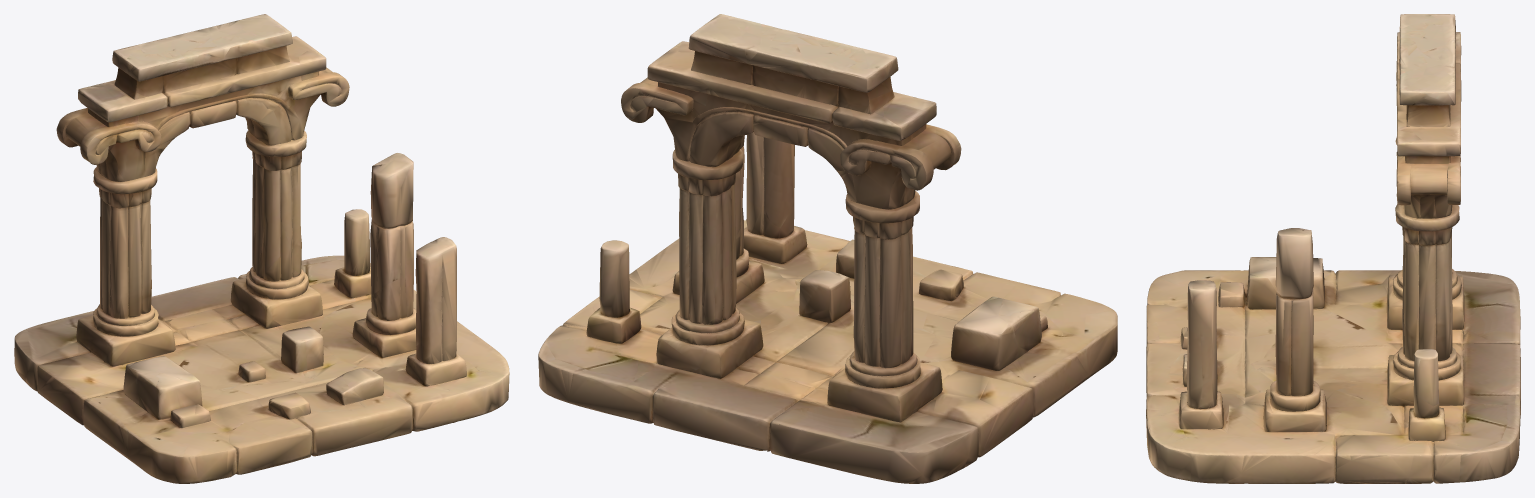
The model's file is roman_forum_pbr.glb.
3 renders of one model, left to right at view 1: azimuth 30°, elevation 25°; view 2: azimuth 150°, elevation 25°; view 3: azimuth 270°, elevation 25°, orthographic. The views are drawn at different scales.
Visible parts, largest first — view 1: model; view 2: model; view 3: model.
Boxes of the visible parts, x1=… form: model: x1=14, y1=14, x2=509, y2=483; model: x1=538, y1=14, x2=1117, y2=483; model: x1=1146, y1=14, x2=1520, y2=483.
Size of the model in its own units: 1.75 by 1.45 by 1.49.
1 material, 1 textured.
